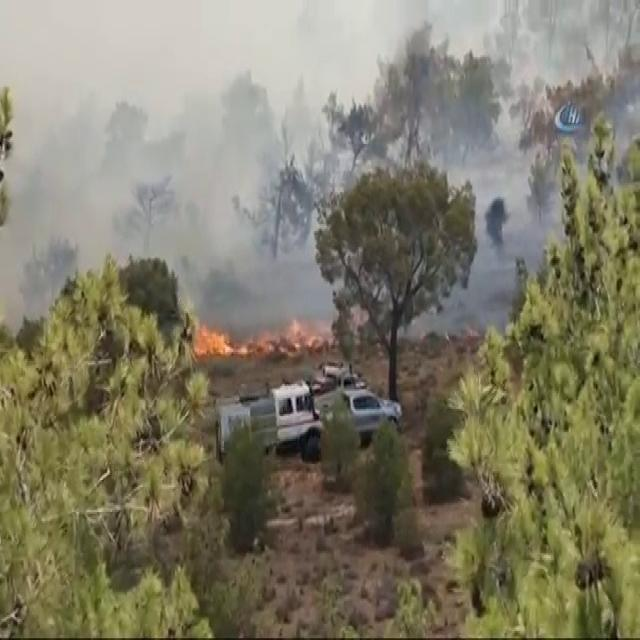Fire: (188, 286, 330, 380)
Smoke: (124, 58, 342, 256), (372, 120, 546, 342), (0, 120, 140, 338)
